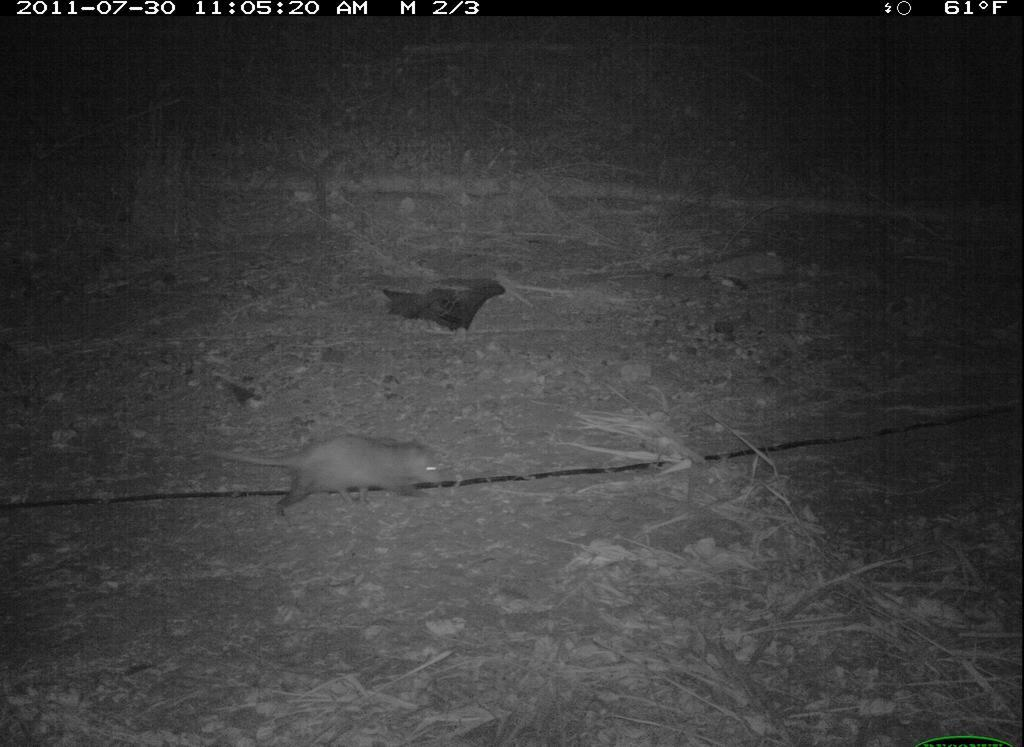opossum: (152, 427, 455, 525)
